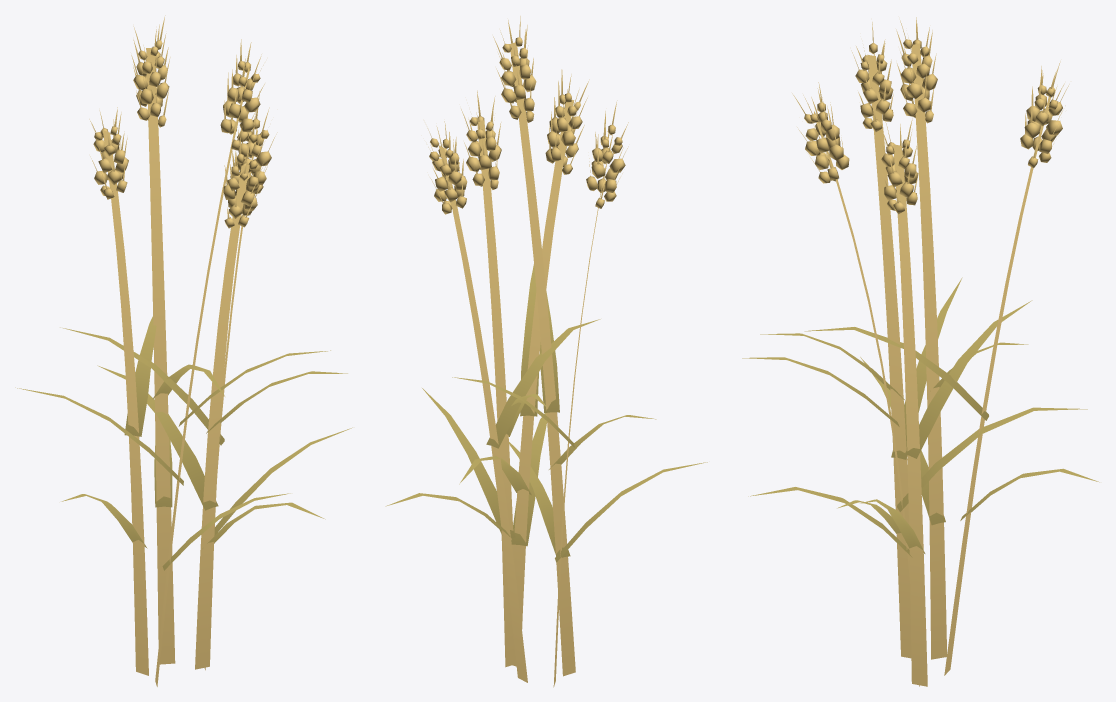
The model's file is wheat1.gltf.
3 views of the same model, side by side, from view 1: azimuth 30°, elevation 25°; view 2: azimuth 150°, elevation 25°; view 3: azimuth 270°, elevation 25° (orthographic). The views are drawn at different scales.
Parts seen in each view (by area): view 1: wheat1_stalk_LOD0, wheat1_head_LOD0, wheat1_leaf_LOD0; view 2: wheat1_stalk_LOD0, wheat1_head_LOD0, wheat1_leaf_LOD0; view 3: wheat1_stalk_LOD0, wheat1_head_LOD0, wheat1_leaf_LOD0.
Boxes of the visible parts, left/top/right/bottom form: wheat1_stalk_LOD0: left=103, top=47, right=257, bottom=686; wheat1_head_LOD0: left=89, top=15, right=277, bottom=228; wheat1_leaf_LOD0: left=15, top=316, right=352, bottom=570; wheat1_stalk_LOD0: left=438, top=42, right=612, bottom=687; wheat1_head_LOD0: left=427, top=16, right=628, bottom=214; wheat1_leaf_LOD0: left=385, top=264, right=707, bottom=562; wheat1_stalk_LOD0: left=814, top=43, right=1050, bottom=686; wheat1_head_LOD0: left=792, top=17, right=1069, bottom=214; wheat1_leaf_LOD0: left=742, top=277, right=1099, bottom=557.
Size of what is drawn, in the model's own units: 0.5438 by 1.13 by 0.5504.
